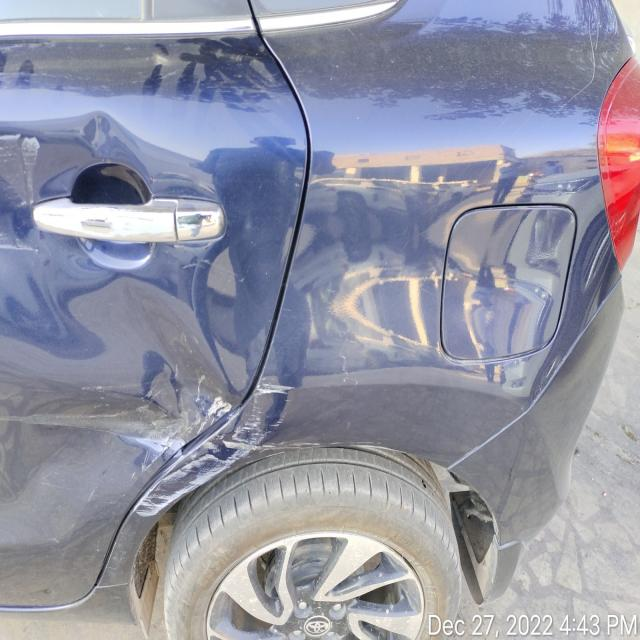damage: (120, 365, 266, 517), (79, 109, 150, 164)
